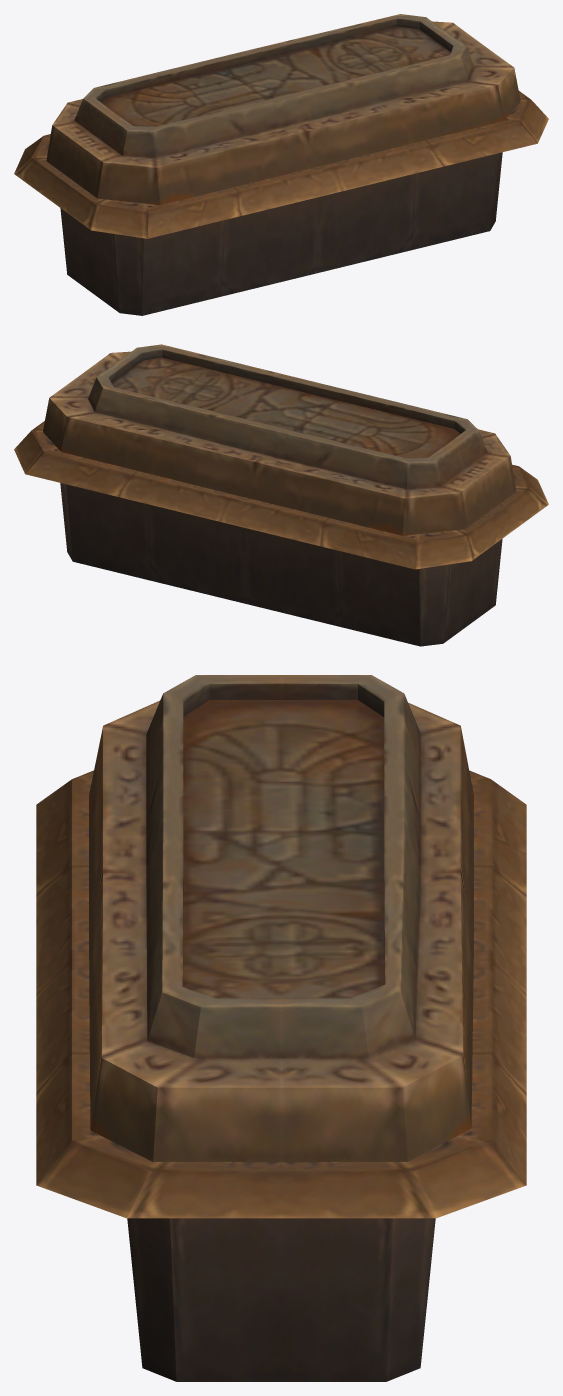
The model's file is theme02_quest_stonecoffin_rigging001.FBX.
The picture shows the model from 3 angles, top to bottom: view 1: azimuth 30°, elevation 25°; view 2: azimuth 150°, elevation 25°; view 3: azimuth 270°, elevation 25°; orthographic projection. The views are drawn at different scales.
Visible parts, largest first — view 1: Object008, Bip01; view 2: Object008, Bip01; view 3: Object008, Bip01.
Part boxes in pixels (left/top/right/bottom): Object008: left=46, top=14, right=520, bottom=205; Bip01: left=14, top=91, right=548, bottom=315; Object008: left=43, top=344, right=516, bottom=535; Bip01: left=14, top=421, right=548, bottom=646; Object008: left=89, top=675, right=473, bottom=1162; Bip01: left=36, top=770, right=526, bottom=1381.
Bounding box in the file's own units: 9.18 × 3.37 × 4.26.
